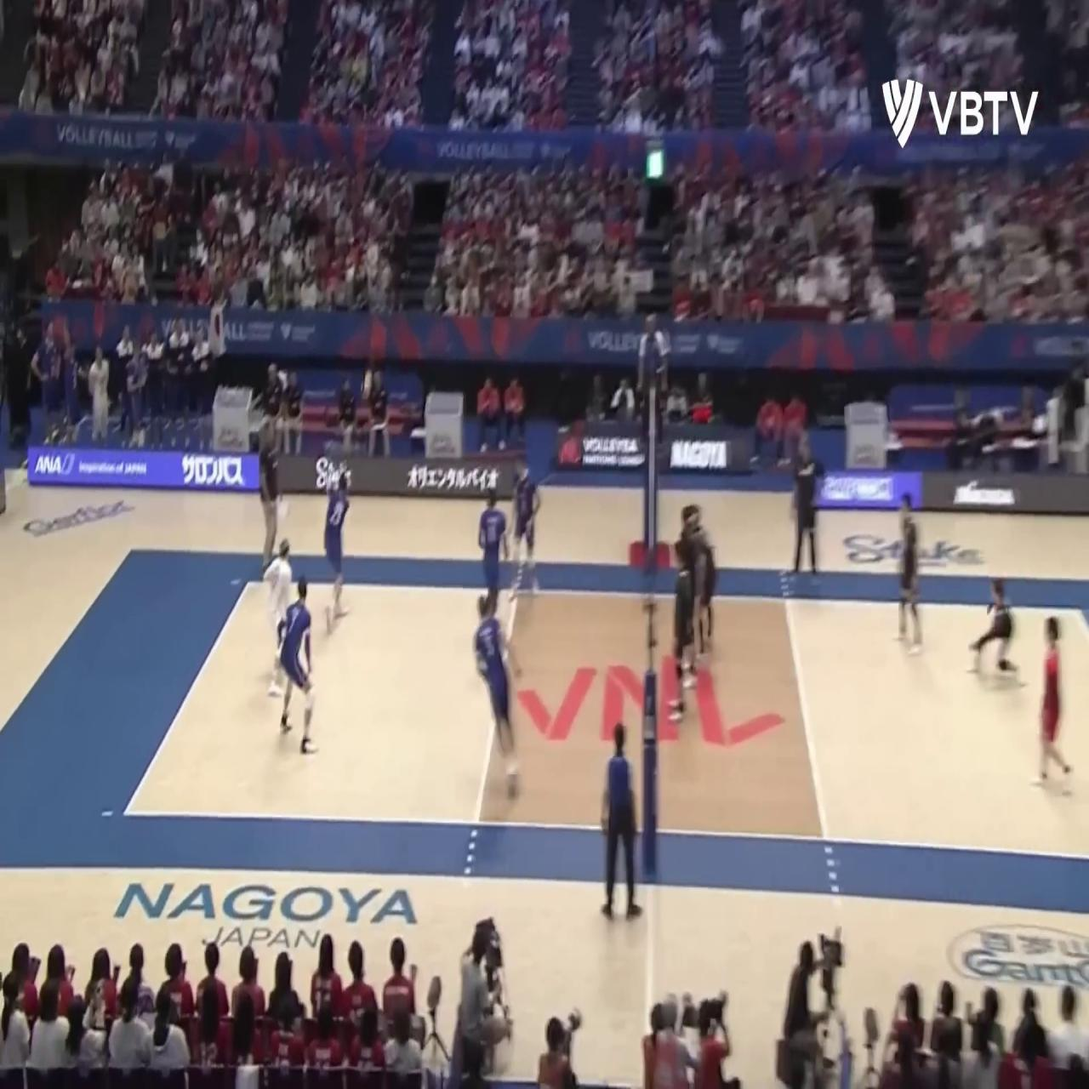ball: (360, 370, 372, 399)
